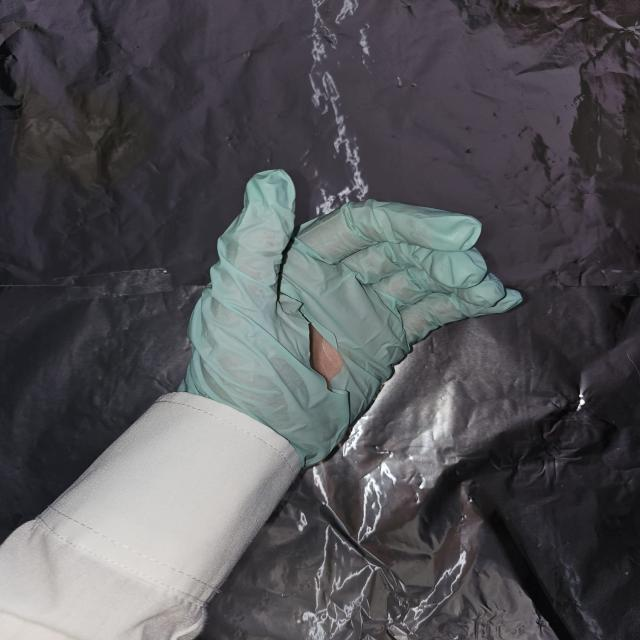gloves_damaged: (175, 170, 525, 468)
